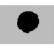correct: (15, 10, 41, 36)
